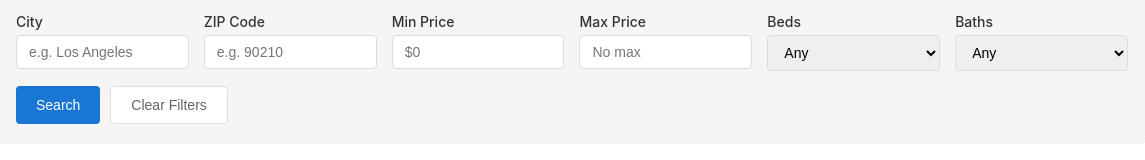
Test: PropertyFilters › clears all filters when Clear button clicked
The image size is (1145, 160).
In the field labelled "City": (102, 52) [16,35,189,69], type "Portland"
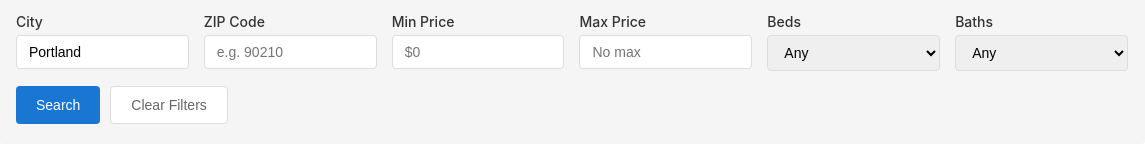
Click the button "Clear Filters": (169, 105) [110,86,228,124]
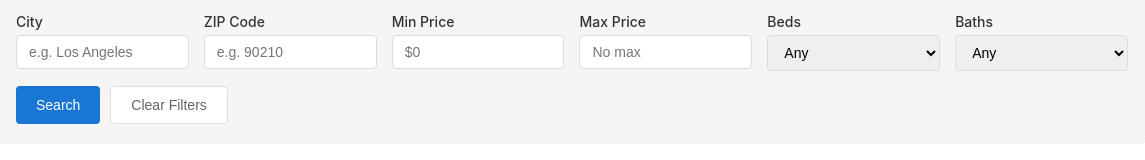
Check: the field labelled "City" is empty, box [16,35,189,69]
